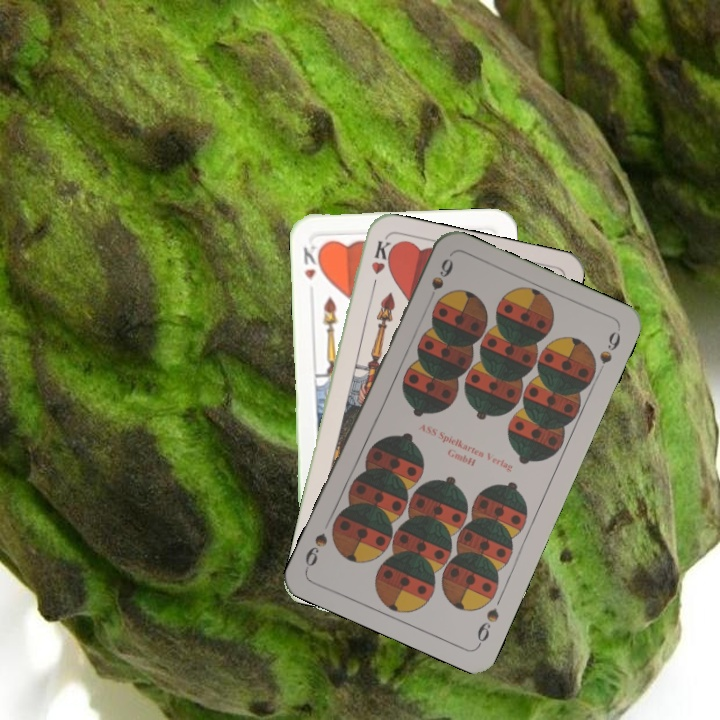HK: (367, 236, 392, 295), (299, 240, 324, 283)
S9: (423, 254, 456, 309), (473, 604, 502, 649)
